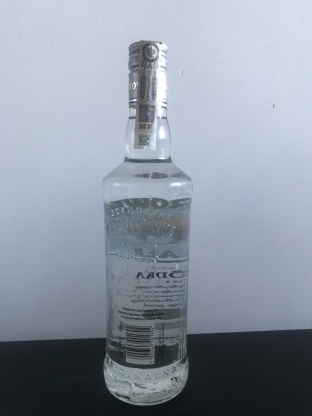nakretka: (124, 36, 171, 110)
